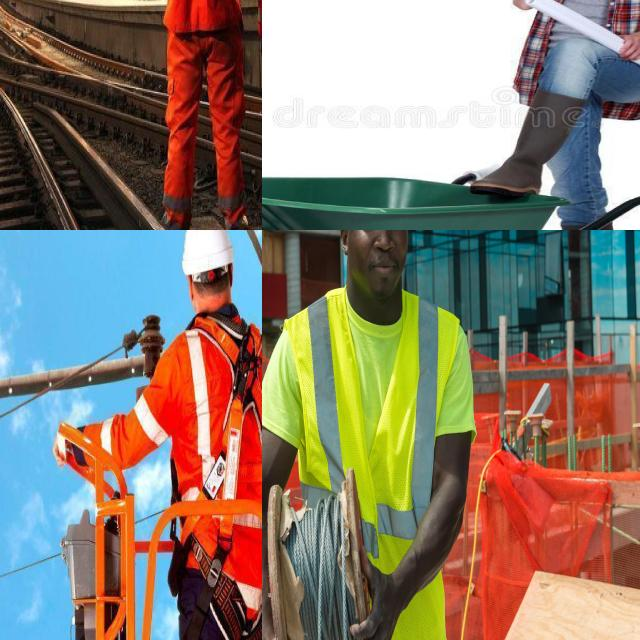No_Ear-Protection: (334, 230, 352, 257)
No_Glasses: (351, 230, 409, 240)
boots: (464, 87, 594, 197)
face_nomask: (343, 230, 412, 297)
hand_noglove: (359, 547, 419, 640), (615, 16, 640, 75)
head_helmet: (168, 230, 248, 274)
person: (262, 230, 476, 640), (144, 230, 262, 640), (467, 0, 640, 230), (147, 0, 259, 230)
vest: (285, 263, 467, 640), (164, 307, 262, 554)
